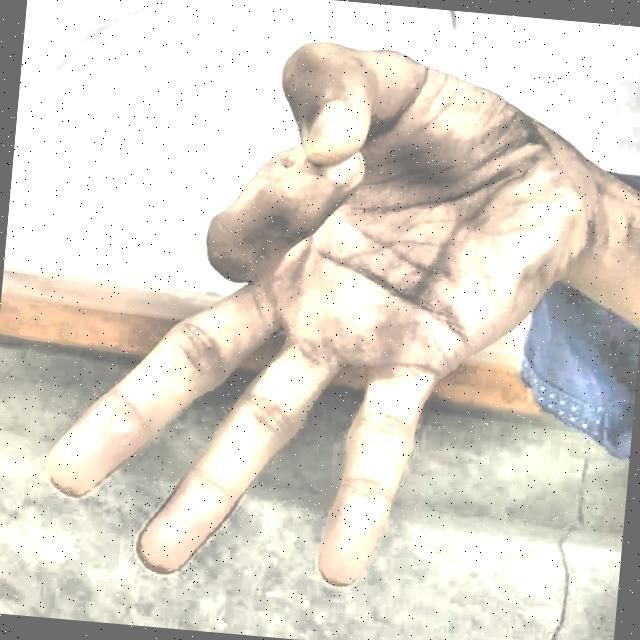Fa: (23, 7, 606, 625)
